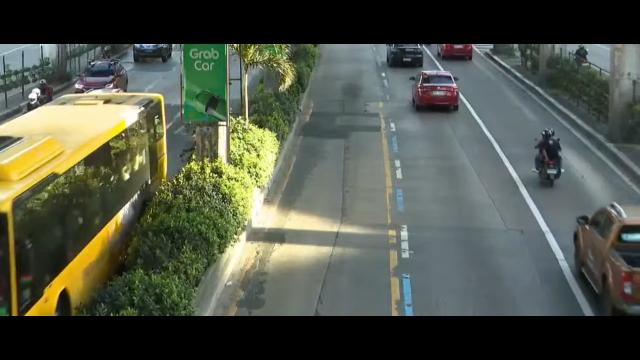bus: (0, 92, 182, 317)
car: (70, 56, 130, 97), (410, 69, 461, 112), (385, 43, 425, 68), (132, 42, 176, 60)
motorcycle: (534, 128, 564, 188), (23, 87, 45, 115)
pickup-truck: (568, 198, 640, 316)
